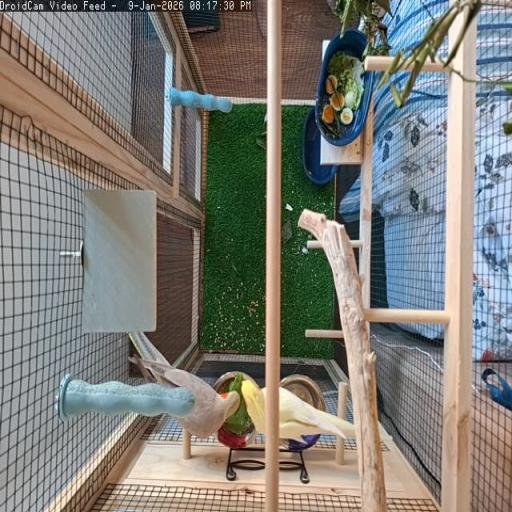bebedero: (282, 374, 326, 409), (281, 435, 320, 451)
comedero: (214, 372, 256, 448)
ninfa: (141, 359, 240, 437), (279, 389, 355, 442), (242, 381, 266, 434)
